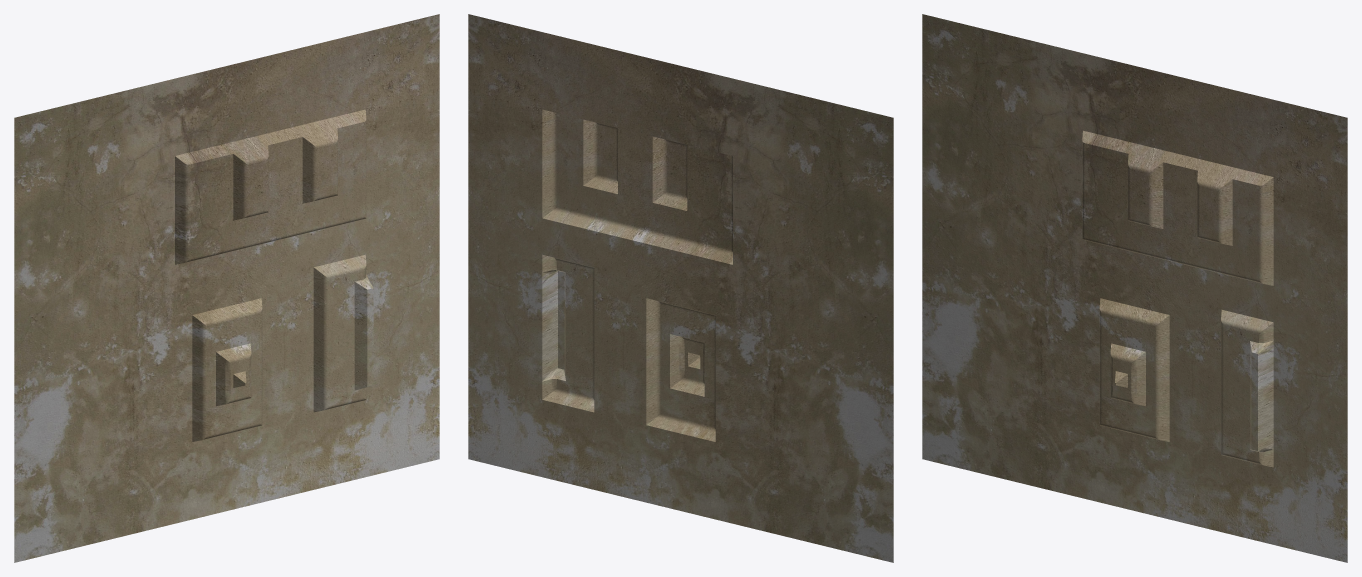
File: suelo00_ML.dae
The picture shows the model from 3 angles, left to right: view 1: azimuth 30°, elevation 25°; view 2: azimuth 150°, elevation 25°; view 3: azimuth 330°, elevation 25°; orthographic projection.
Parts seen in each view (by area): view 1: node; view 2: node; view 3: node.
Boxes of the visible parts, x1,y1,x2,y2 form: node: [14, 14, 439, 562]; node: [468, 14, 893, 562]; node: [922, 14, 1347, 562].
Size of the model in its own units: 23 by 23 by 1.8.
1 material, 1 textured.
